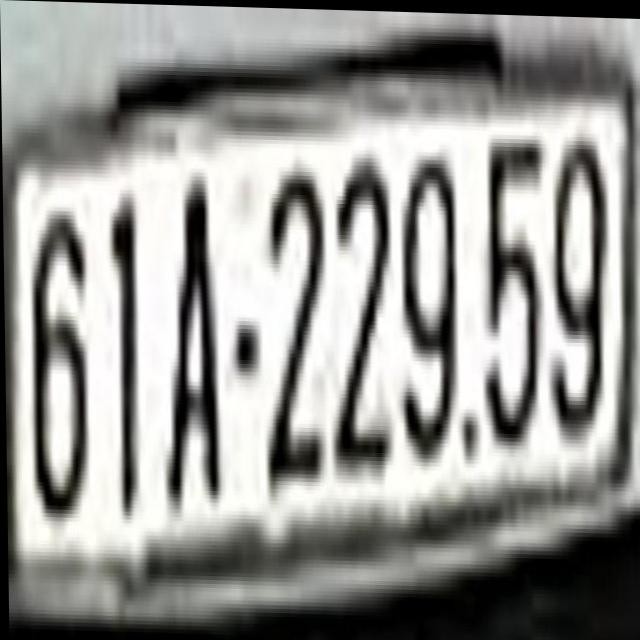1: (104, 177, 139, 543)
2: (261, 157, 326, 492), (328, 155, 391, 470)
5: (484, 116, 542, 455)
6: (29, 194, 87, 533)
9: (398, 133, 456, 472), (545, 121, 606, 441)
A: (162, 167, 220, 517)
